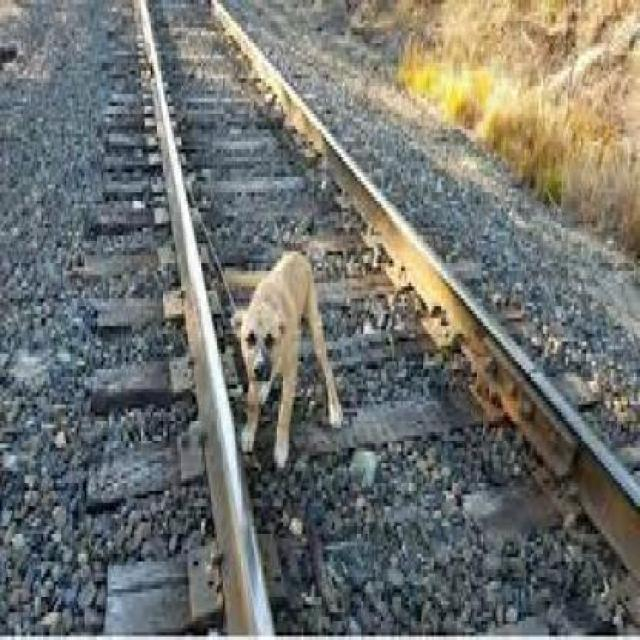danger: (228, 232, 332, 466)
rail: (85, 6, 637, 637)
